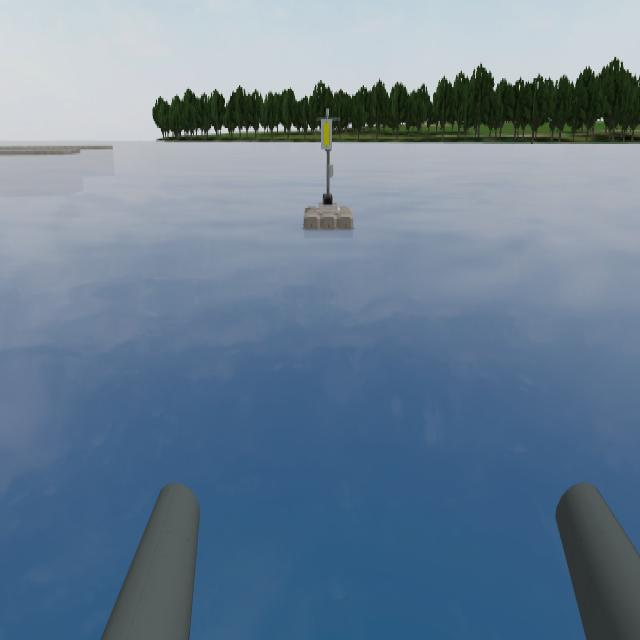yellow_pole: (313, 104, 341, 158)
